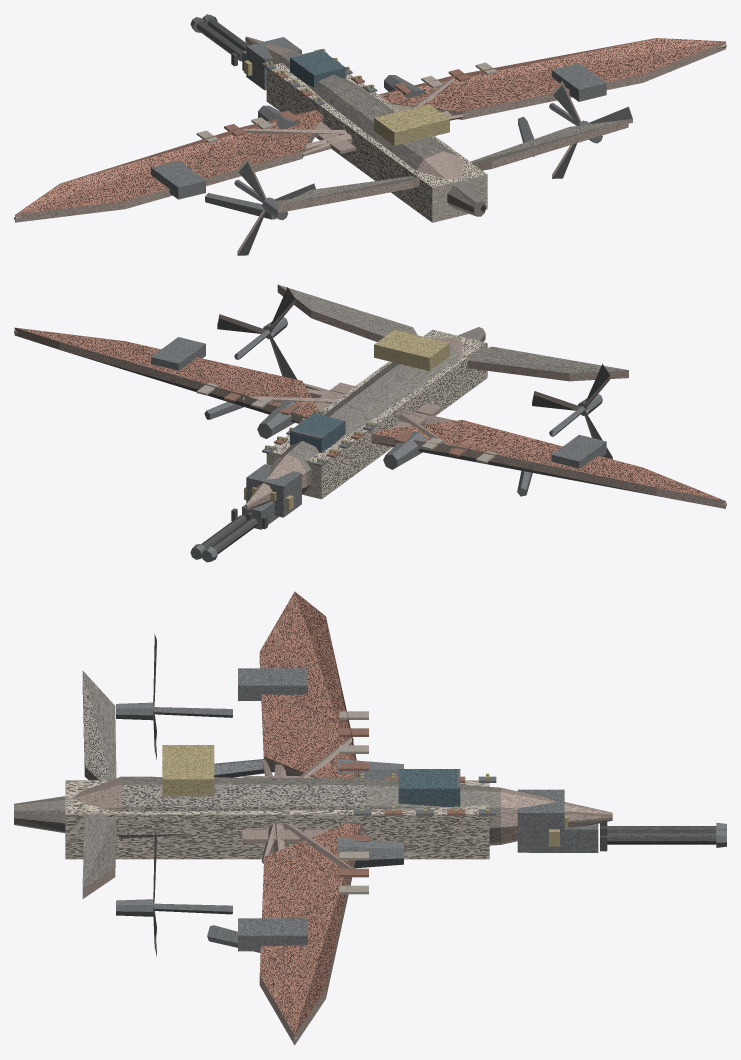
File: unraveled_harrier.glb
3 renders of one model, top to bottom at view 1: azimuth 30°, elevation 25°; view 2: azimuth 150°, elevation 25°; view 3: azimuth 270°, elevation 25°, orthographic. The views are drawn at different scales.
Parts seen in each view (by area): view 1: unraveled_harrier; view 2: unraveled_harrier; view 3: unraveled_harrier.
Boxes of the visible parts, bbox=[...] form: unraveled_harrier: bbox=[14, 14, 726, 255]; unraveled_harrier: bbox=[14, 284, 726, 562]; unraveled_harrier: bbox=[14, 591, 726, 1045].
Size of the model in its own units: 14.12 by 1.88 by 9.58.
Materials: 8 (8 with a texture image).
